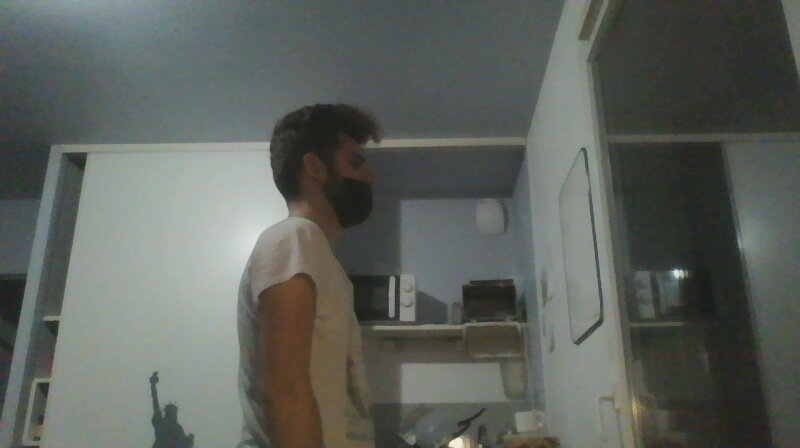with_incorrect_mask: (323, 132, 379, 234)
